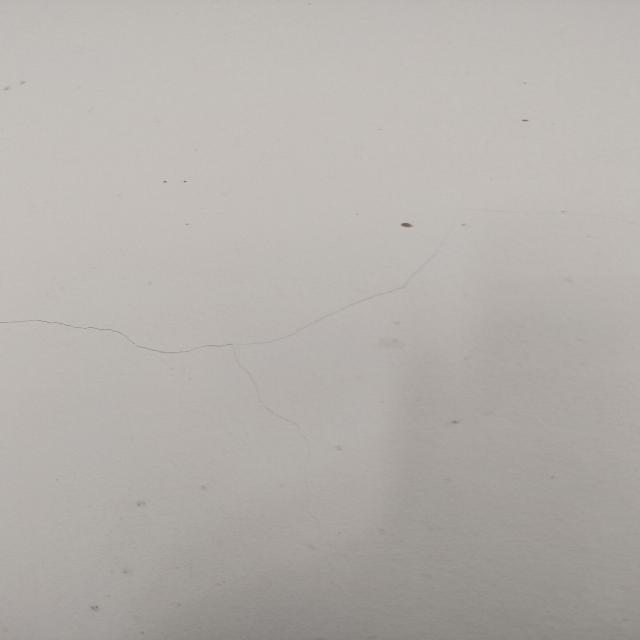Crack: (7, 269, 430, 413)
